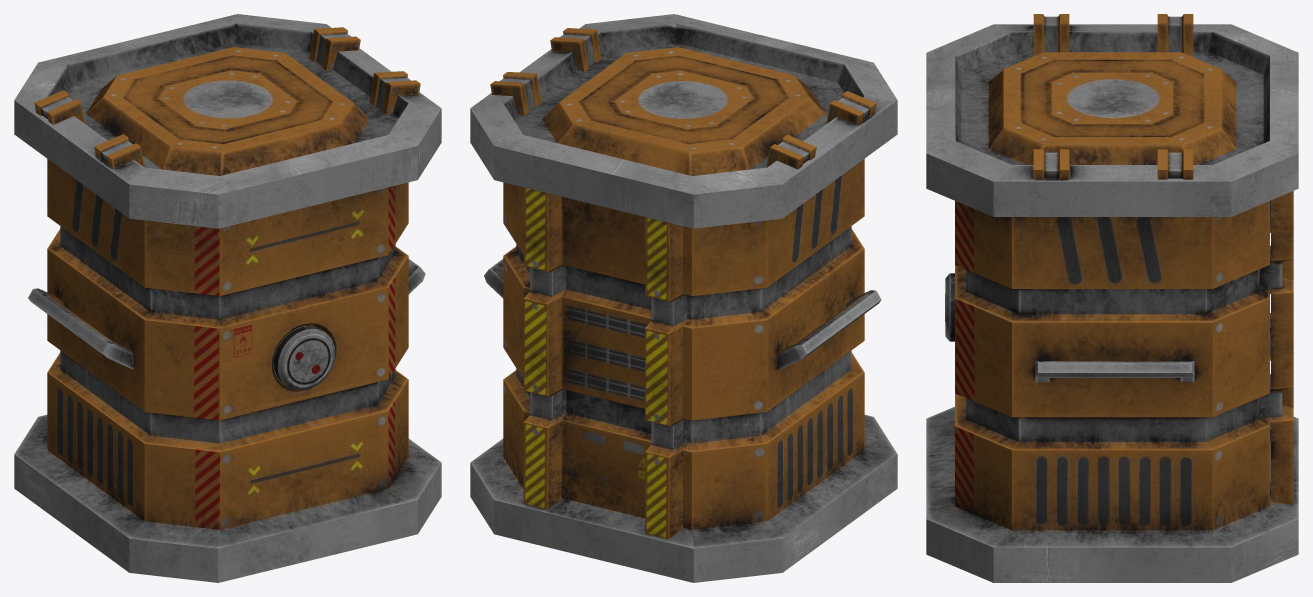
File: container.glb
3 renders of one model, left to right at view 1: azimuth 30°, elevation 25°; view 2: azimuth 150°, elevation 25°; view 3: azimuth 270°, elevation 25°, orthographic. The views are drawn at different scales.
Parts seen in each view (by area): view 1: container; view 2: container; view 3: container.
Boxes of the visible parts, <box> form: container: <box>14,14,441,582</box>; container: <box>470,14,897,582</box>; container: <box>926,14,1298,582</box>.
Bounding box in the file's own units: 1.7 × 2.06 × 1.64.
Materials: 1 (1 with a texture image).
